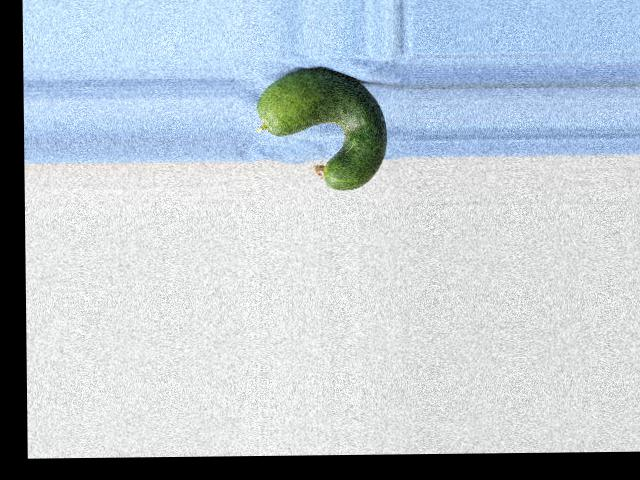cucumber: (256, 67, 387, 191)
